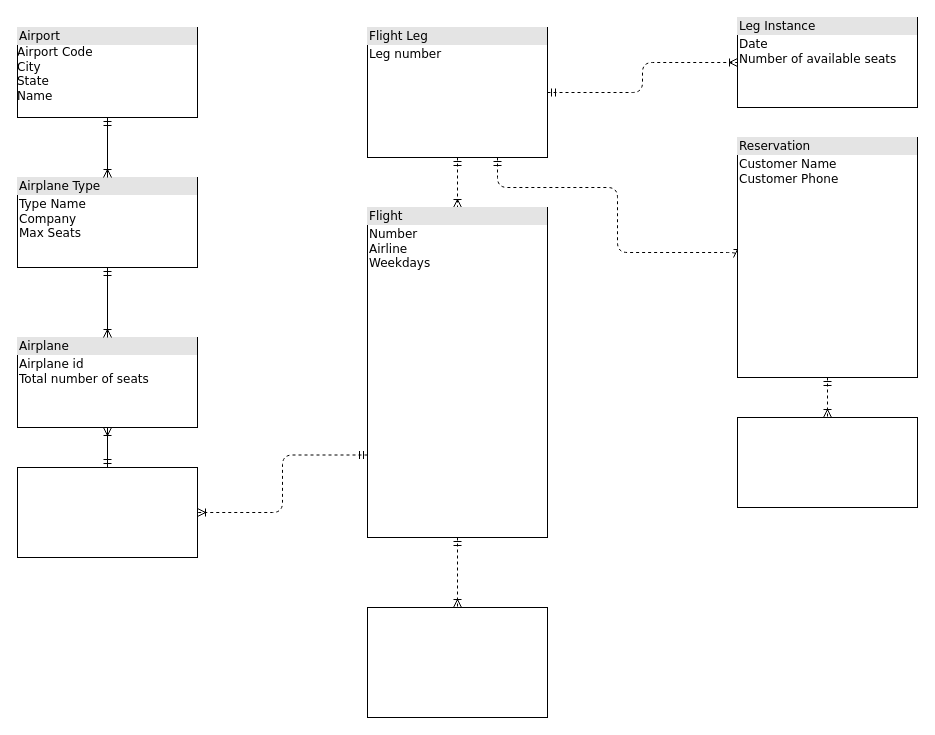
This 935x735 diagram has some shape labels left out. The centre of each missing label's shape, as x and y in pixels:
Fare Restrictions Amount Code: the point at 457,662
Seat Seat number: the point at 827,462
Tablename PK uniqueId FK1 foreignKey fieldname fieldname: the point at 107,512
